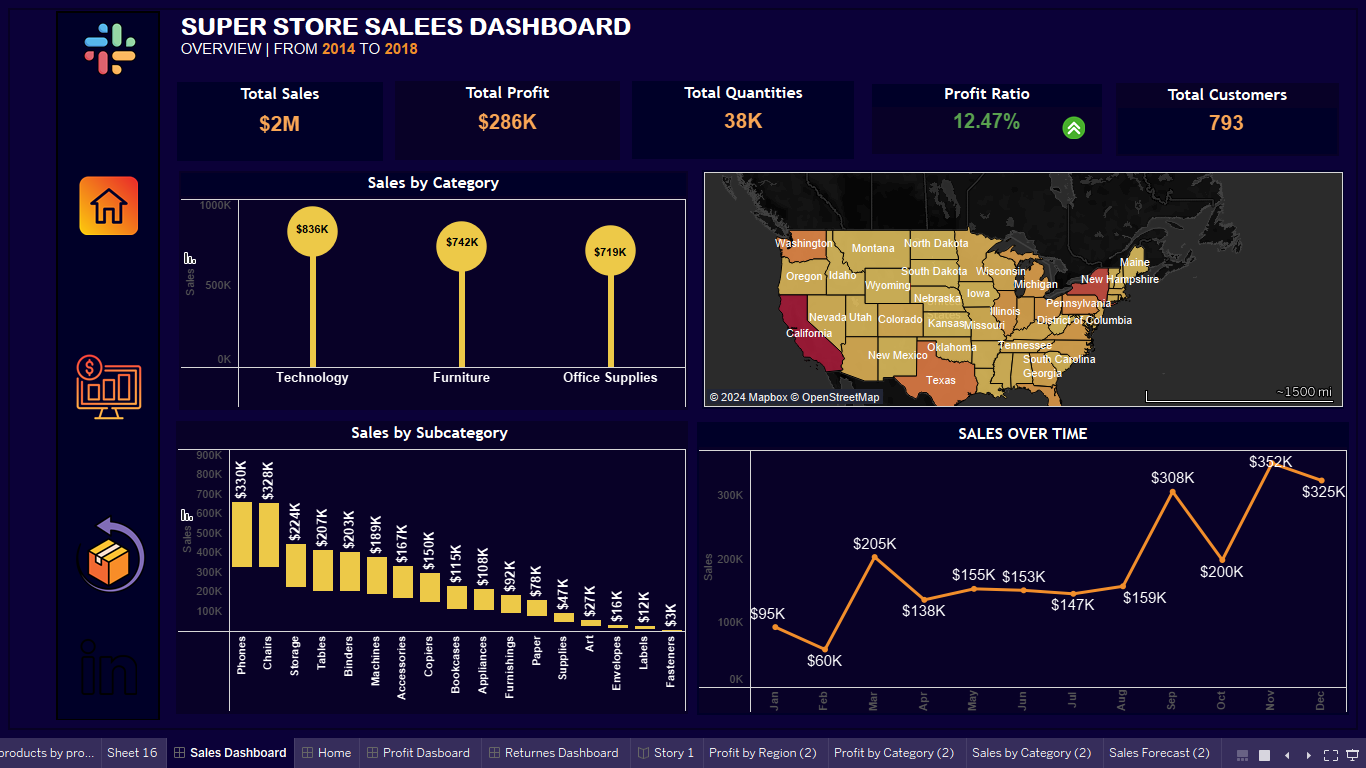

This screenshot's page, from the dashboard's own definition file:
{"tool":"tableau","page":{"name":"Sales Dashboard","canvas":[1000,1000],"units":"permille","ordinal":3},"visuals":[{"type":"blank","box":[107.6,13.5,867.4,81.1]},{"type":"blank","box":[41.3,14.3,76,961.4]},{"type":"image","param":"C:/Users/LENOVO/Downloads/platform_15059817.png","box":[45,25.7,72,80]},{"type":"worksheet","title":"Total Profit","mark":"Automatic","box":[288.9,110,165.1,107.1]},{"type":"worksheet","title":"Total Quantities","mark":"Automatic","box":[462.3,110,162.9,105.7]},{"type":"worksheet","title":"Total Sales","mark":"Automatic","box":[129.9,111.4,151,107.1]},{"type":"worksheet","title":"Total Customers","mark":"Automatic","box":[817.3,112.9,162.9,98.6]},{"type":"worksheet","title":"Profit Ratio","mark":"Automatic","box":[638.1,114.3,168.5,94.3]},{"type":"image","param":"C:/Users/LENOVO/Downloads/arrow_14025513.png","box":[773.5,157.1,23.9,31.4]},{"type":"worksheet","title":"Map","mark":"Automatic","box":[513.6,230,470.6,324.3]},{"type":"worksheet","title":"Sales by Category","mark":"Bar","rows":["Sales","Sales"],"cols":["Category"],"box":[130.9,231.4,372.9,324.3]},{"type":"dashboard-object","box":[45,238.6,67.5,80]},{"type":"dashboard-object","box":[1.9,477.1,153.8,92.9]},{"type":"worksheet","title":"Sales by Subcategory ","mark":"GanttBar","rows":["Sales"],"cols":["Sub-Category"],"box":[129,570,374.8,397.1]},{"type":"worksheet","title":"Sales Forecast","mark":"Automatic","rows":["Sales"],"cols":["Order Date"],"box":[510.4,571.4,477.4,397.1]},{"type":"dashboard-object","box":[34,697.1,94,107.1]},{"type":"image","param":"C:/Users/LENOVO/Downloads/linkedin_220343.png","box":[54.4,864.3,51.6,77.1]}]}

Visuals, with their boxes on the dashboard's canvas, which has no fixed pixel size, in thousandths of its width and height (x1, y1, x2, y2). These are canvas units, not pixel positions in the 1366x768 screenshot, which may show the page scaled, cropped or inside an application window:
blank: [left=108, top=14, right=975, bottom=95]
blank: [left=41, top=14, right=117, bottom=976]
image: [left=45, top=26, right=117, bottom=106]
"Total Profit" worksheet: [left=289, top=110, right=454, bottom=217]
"Total Quantities" worksheet: [left=462, top=110, right=625, bottom=216]
"Total Sales" worksheet: [left=130, top=111, right=281, bottom=218]
"Total Customers" worksheet: [left=817, top=113, right=980, bottom=212]
"Profit Ratio" worksheet: [left=638, top=114, right=807, bottom=209]
image: [left=774, top=157, right=797, bottom=188]
"Map" worksheet: [left=514, top=230, right=984, bottom=554]
"Sales by Category" worksheet (Bar marks): [left=131, top=231, right=504, bottom=556]
dashboard-object: [left=45, top=239, right=112, bottom=319]
dashboard-object: [left=2, top=477, right=156, bottom=570]
"Sales by Subcategory " worksheet (GanttBar marks): [left=129, top=570, right=504, bottom=967]
"Sales Forecast" worksheet: [left=510, top=571, right=988, bottom=968]
dashboard-object: [left=34, top=697, right=128, bottom=804]
image: [left=54, top=864, right=106, bottom=941]
